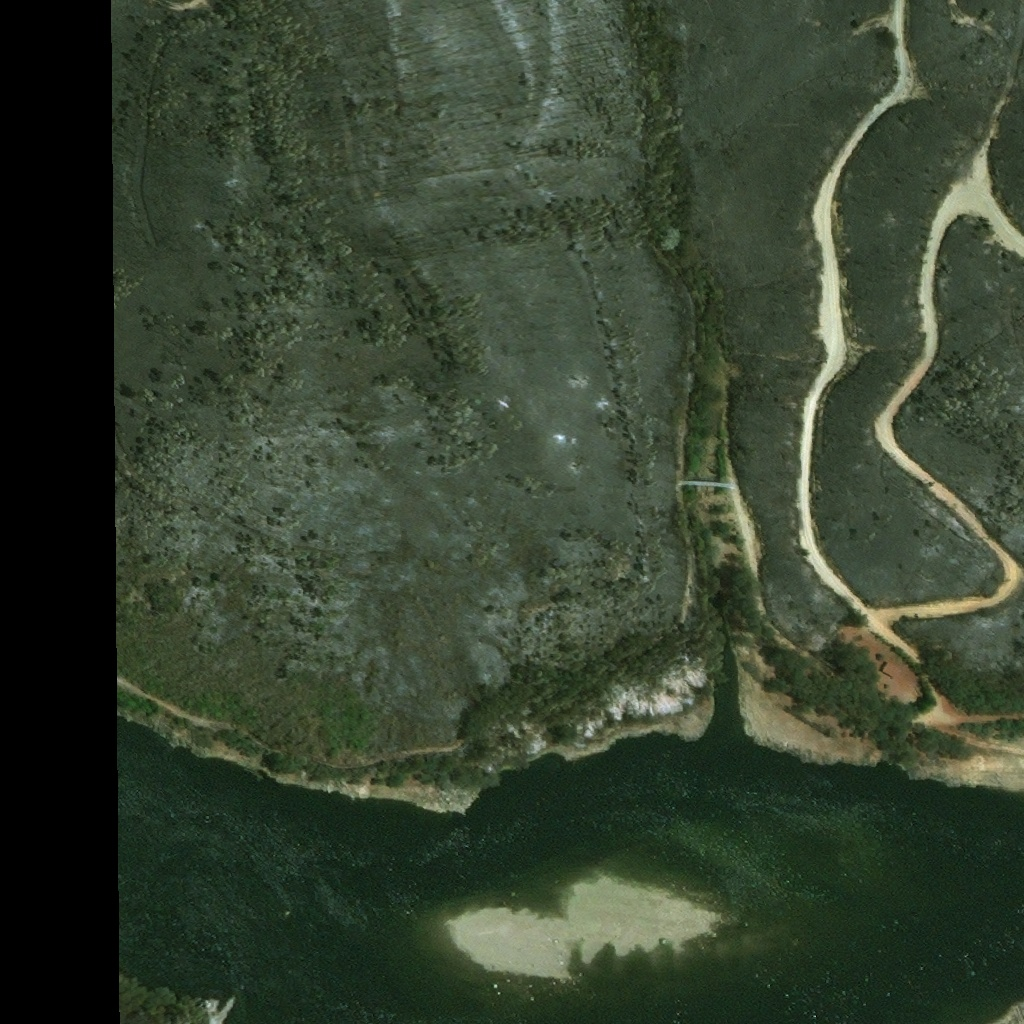0 no-damage: (881, 659, 900, 678)
